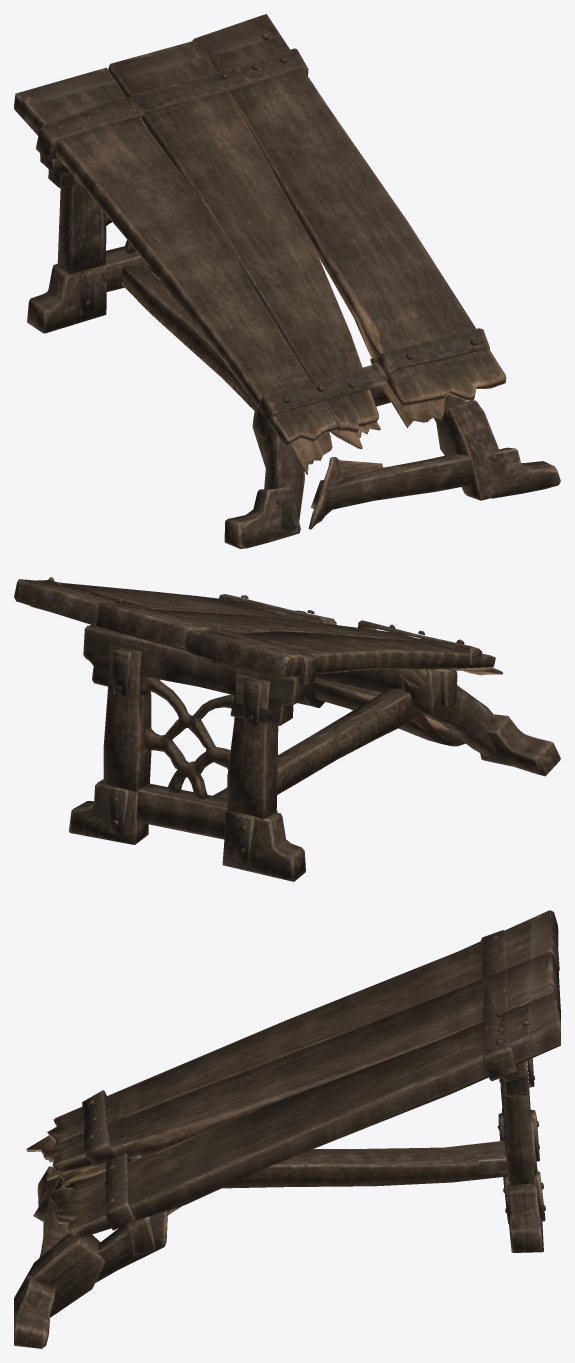
File: d_table_long_broken.glb
3 views of the same model, one above another, from view 1: azimuth 30°, elevation 25°; view 2: azimuth 150°, elevation 25°; view 3: azimuth 270°, elevation 25° (orthographic). The views are drawn at different scales.
Parts seen in each view (by area): view 1: d_table_long_broken; view 2: d_table_long_broken; view 3: d_table_long_broken.
Part boxes in pixels (x1=…): d_table_long_broken: x1=14, y1=14, x2=560, y2=548; d_table_long_broken: x1=14, y1=577, x2=560, y2=881; d_table_long_broken: x1=14, y1=910, x2=560, y2=1348.
Size of the model in its own units: 1.4 by 1.27 by 2.04.
1 material, 1 textured.
